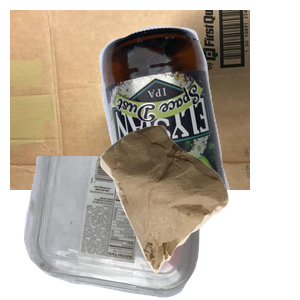cardboard: (10, 10, 250, 190)
glass: (97, 24, 300, 204)
plastic: (21, 156, 226, 300)
trash: (98, 123, 300, 300)
